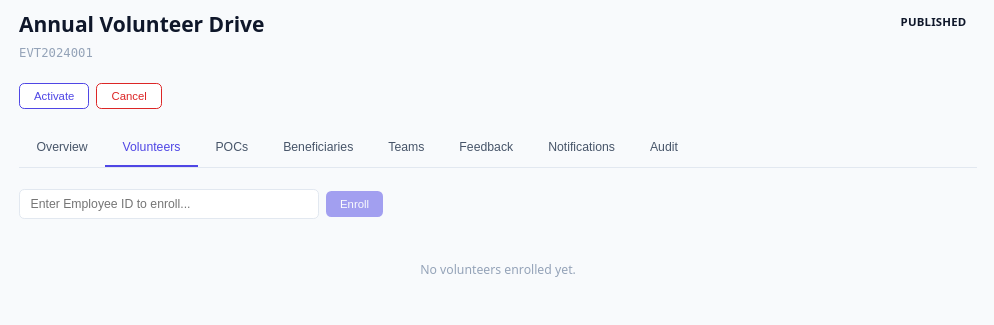
Test: Volunteer Enrollment Error Handling › shows duplicate enrollment error when volunteer is already enrolled
// Type employee ID and submit
In the field labelled "Employee ID to enroll": (169, 204) [19,189,319,219], type "EMP001"
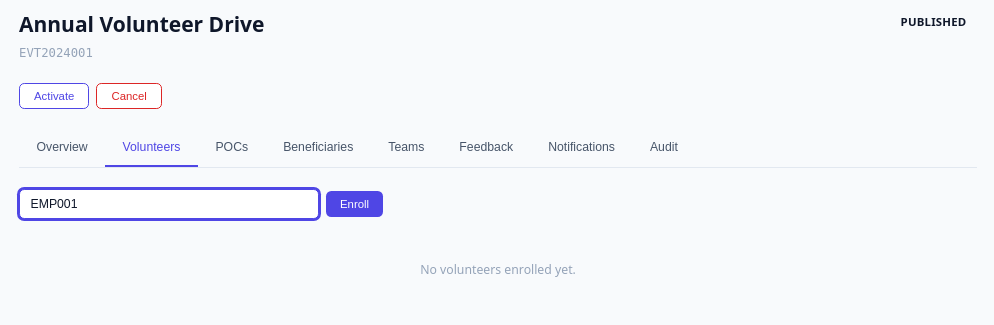
Click the button "Enroll": (354, 204) [326,191,383,217]
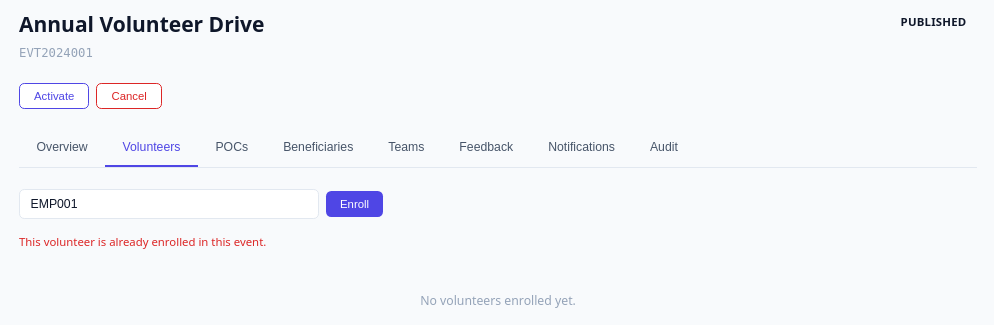
expect the text "This volunteer is already enrolled in this event." is shown: met, box [19,234,266,249]
